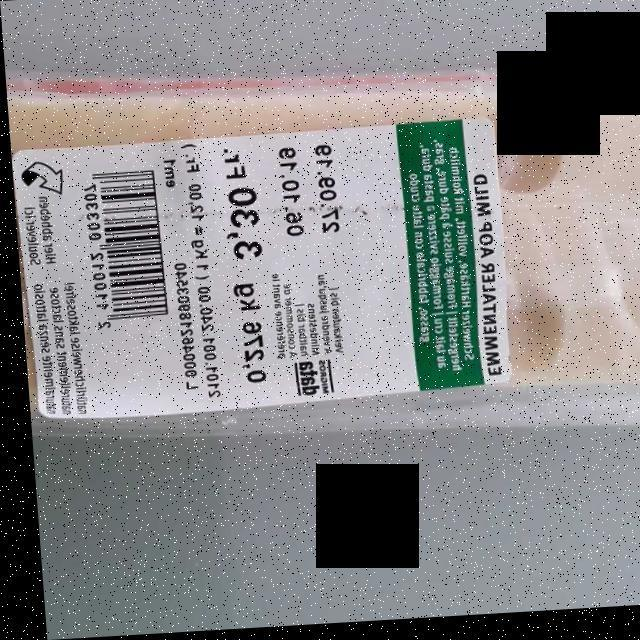cheese: (10, 83, 640, 401)
